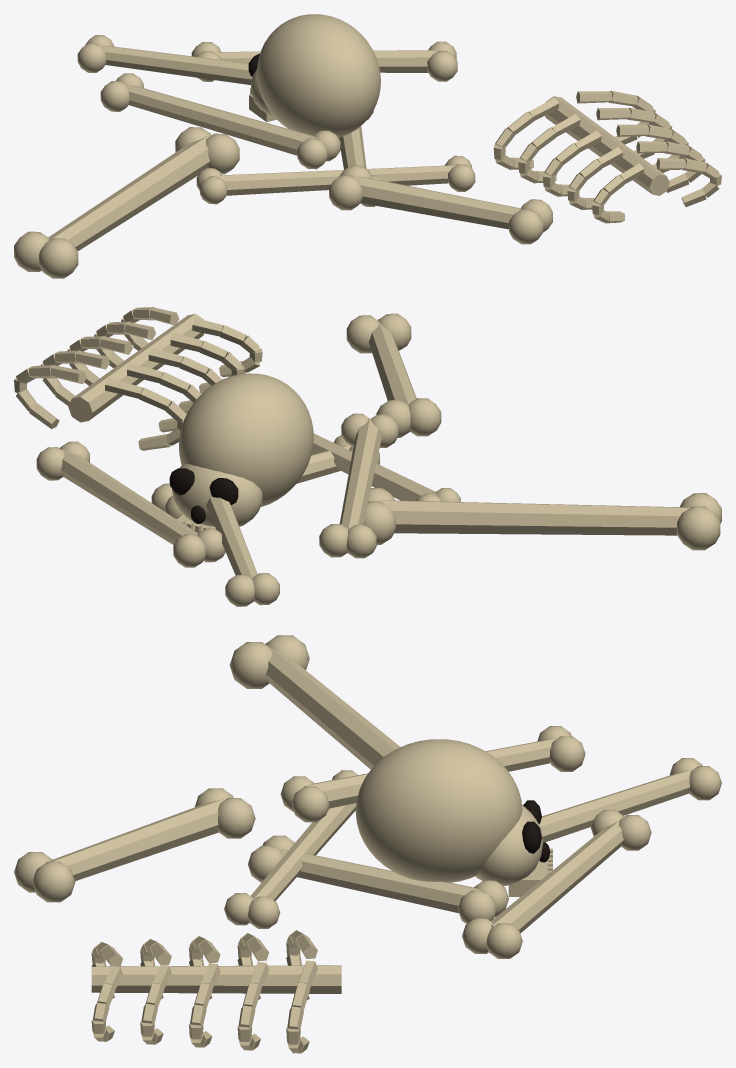
Rendered from SM_80s_Bones.glb.
3 renders of one model, top to bottom at view 1: azimuth 30°, elevation 25°; view 2: azimuth 150°, elevation 25°; view 3: azimuth 270°, elevation 25°, orthographic. The views are drawn at different scales.
Parts seen in each view (by area): view 1: SM_80s_Bones; view 2: SM_80s_Bones; view 3: SM_80s_Bones.
Part boxes in pixels (x1,y1,x2,y2): SM_80s_Bones: (14,14,721,278); SM_80s_Bones: (14,307,721,606); SM_80s_Bones: (14,635,721,1053).
Size of the model in its own units: 1.26 by 0.2695 by 1.02.
